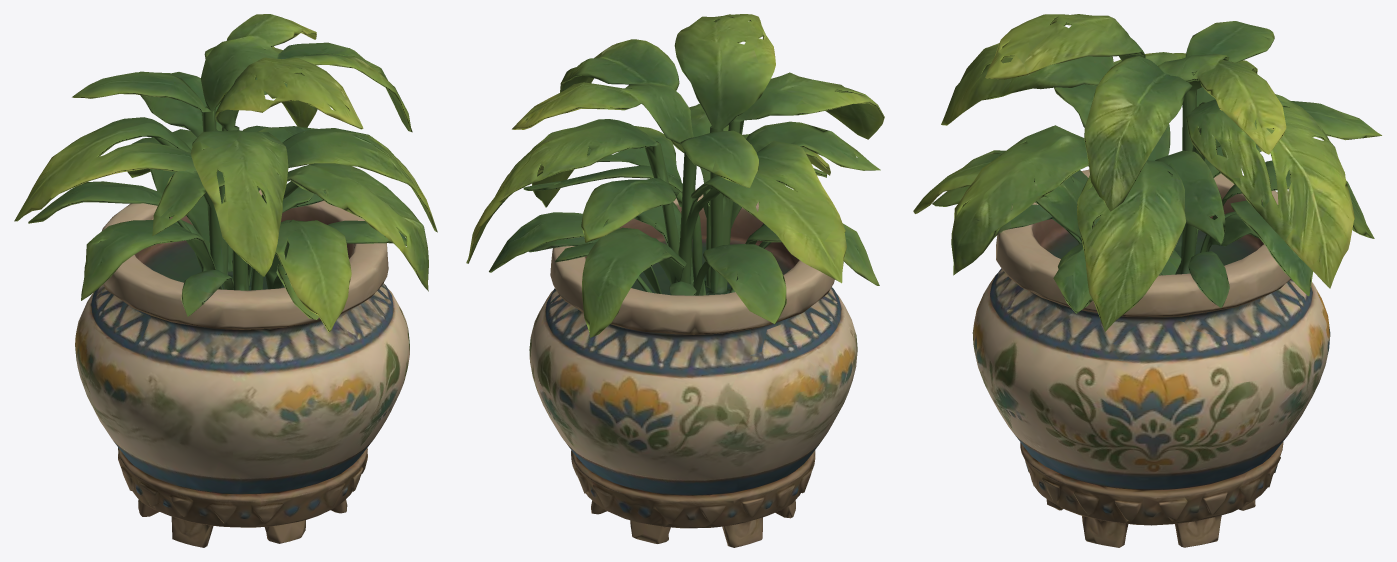
File: maceta.glb
The picture shows the model from 3 angles, left to right: view 1: azimuth 30°, elevation 25°; view 2: azimuth 150°, elevation 25°; view 3: azimuth 270°, elevation 25°; orthographic projection. The views are drawn at different scales.
Parts seen in each view (by area): view 1: tripo_node_9ddd0526-33c8-4cd3-8f20-656604fa384a; view 2: tripo_node_9ddd0526-33c8-4cd3-8f20-656604fa384a; view 3: tripo_node_9ddd0526-33c8-4cd3-8f20-656604fa384a.
Part boxes in pixels (x1,y1,x2,y2): tripo_node_9ddd0526-33c8-4cd3-8f20-656604fa384a: (14, 14, 437, 547); tripo_node_9ddd0526-33c8-4cd3-8f20-656604fa384a: (466, 14, 884, 547); tripo_node_9ddd0526-33c8-4cd3-8f20-656604fa384a: (913, 14, 1381, 547).
Size of the model in its own units: 0.813 by 1 by 0.8679.
1 material, 1 textured.
